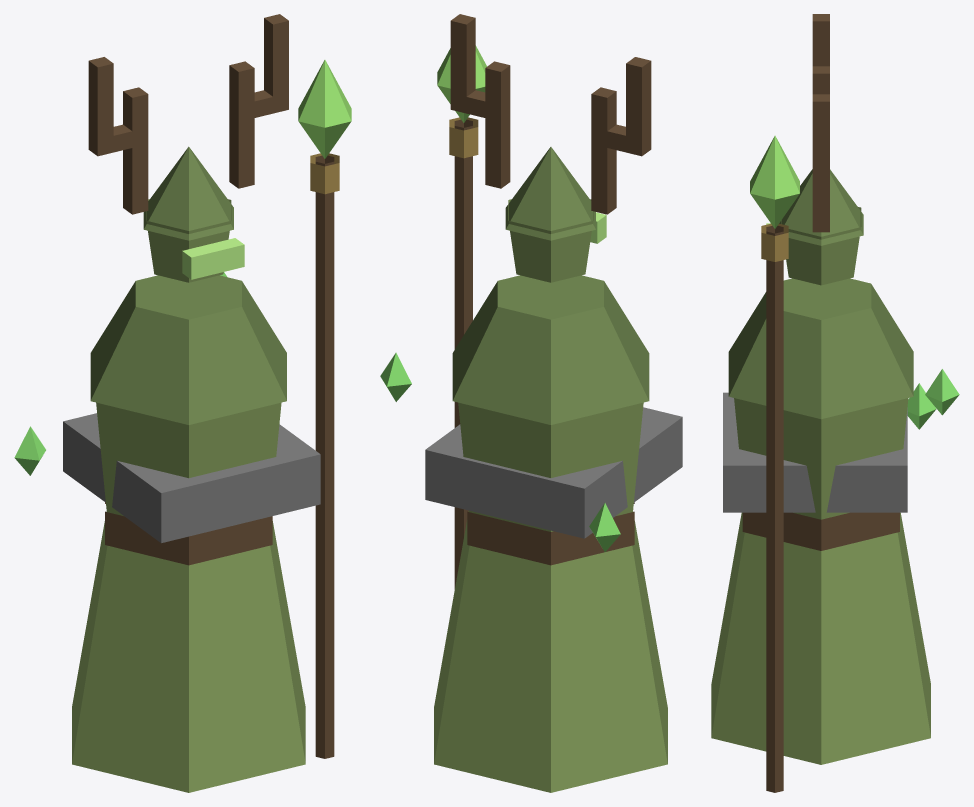
Rendered from druid.obj.
3 renders of one model, left to right at view 1: azimuth 30°, elevation 25°; view 2: azimuth 150°, elevation 25°; view 3: azimuth 270°, elevation 25°, orthographic. The views are drawn at different scales.
Parts seen in each view (by area): view 1: druid; view 2: druid; view 3: druid.
Boxes of the visible parts, <box> form: druid: <box>14,14,351,792</box>; druid: <box>380,14,682,792</box>; druid: <box>711,14,959,792</box>.
Size of the model in its own units: 0.98 by 2.6 by 0.8611.
